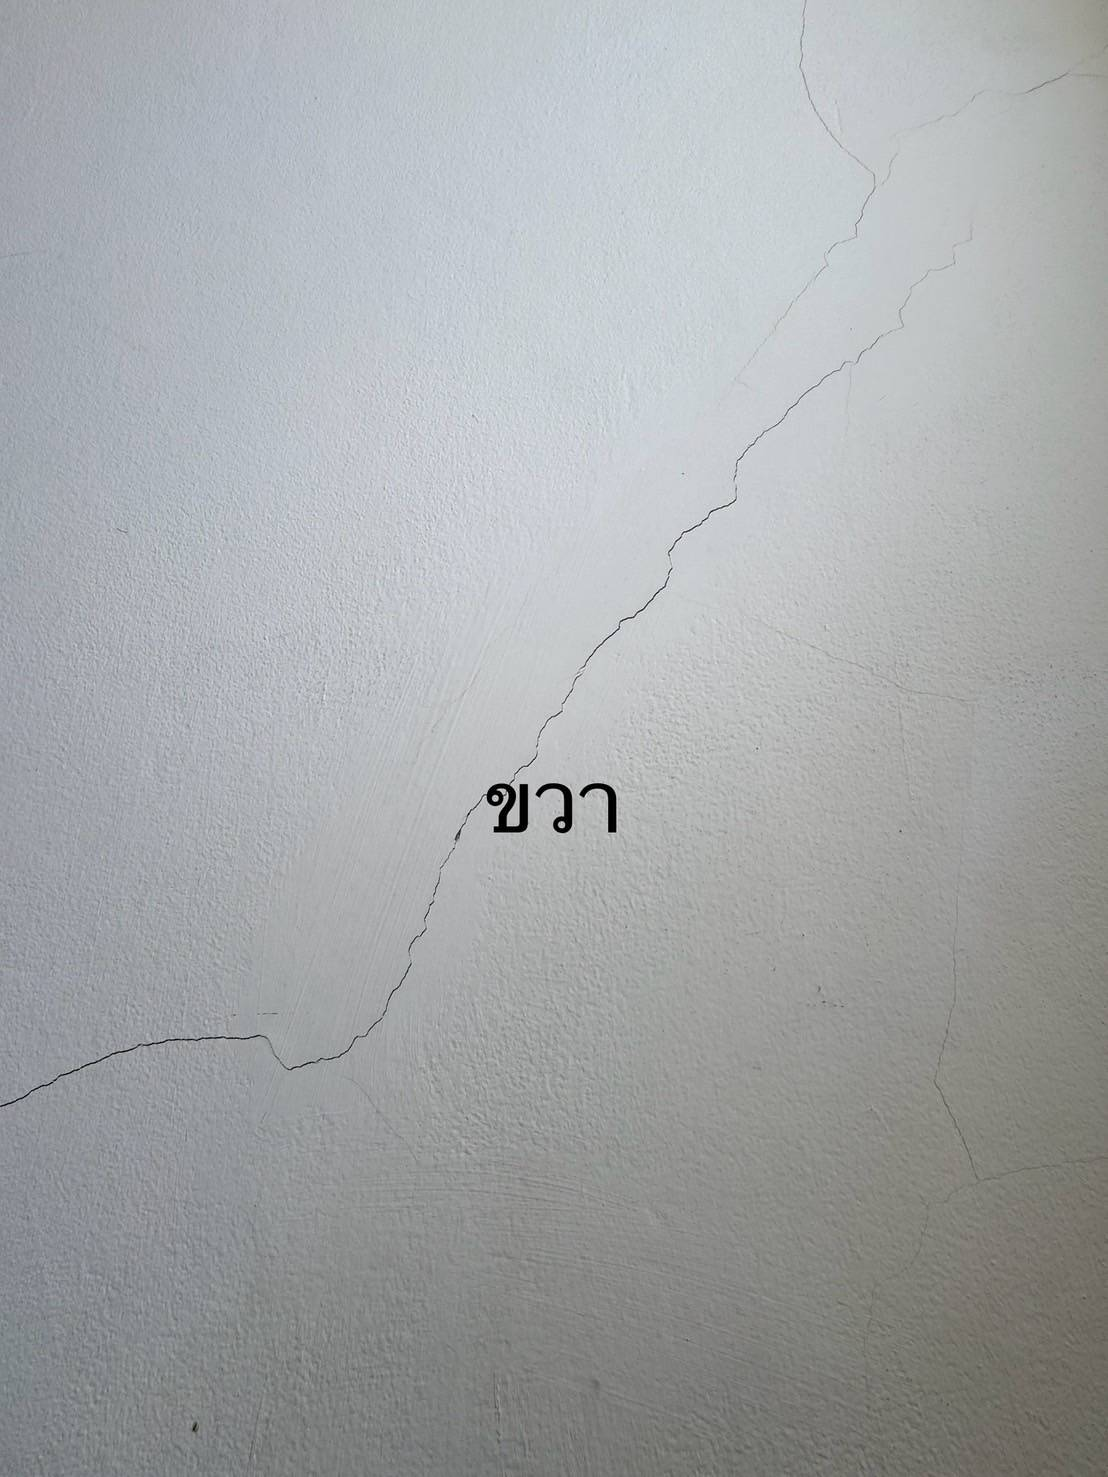Low: (6, 1, 1108, 1116)
